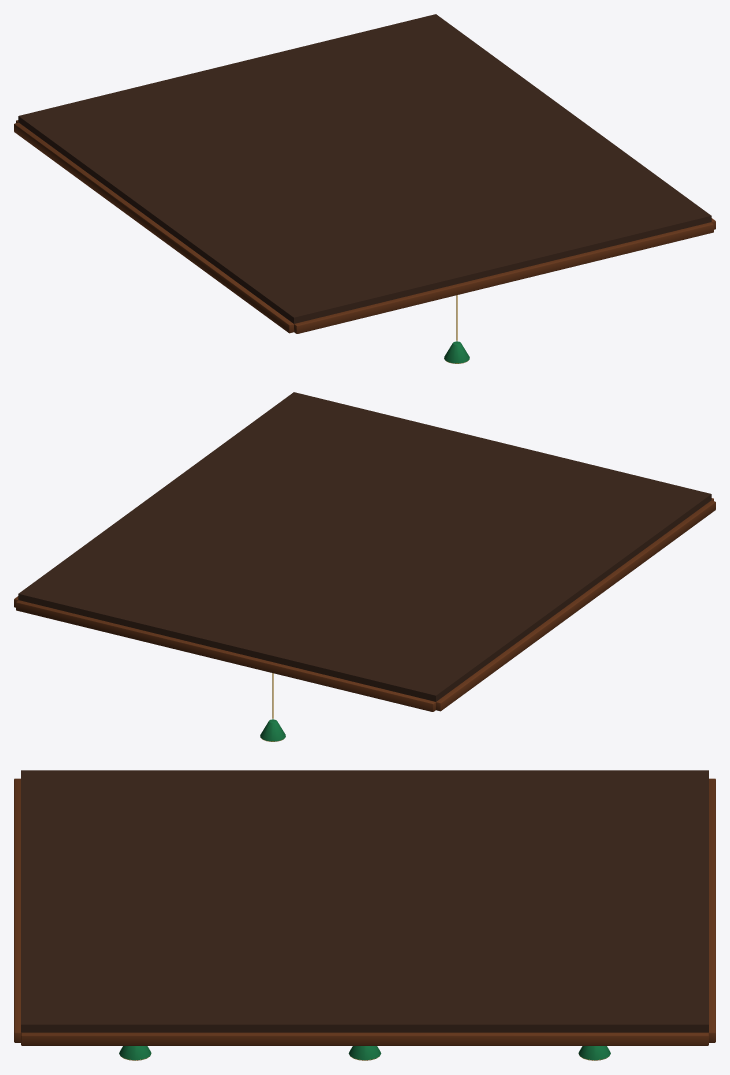
The model's file is CeilingClub.fbx.
The picture shows the model from 3 angles, top to bottom: view 1: azimuth 30°, elevation 25°; view 2: azimuth 150°, elevation 25°; view 3: azimuth 270°, elevation 25°; orthographic projection. The views are drawn at different scales.
Parts seen in each view (by area): view 1: CeilingClub; view 2: CeilingClub; view 3: CeilingClub.
Boxes of the visible parts, box(x1,y1,x2,y2) form: CeilingClub: box(14, 14, 715, 363); CeilingClub: box(14, 392, 715, 741); CeilingClub: box(14, 770, 715, 1060).
Bounding box in the file's own units: 7160 × 2020 × 8160.
